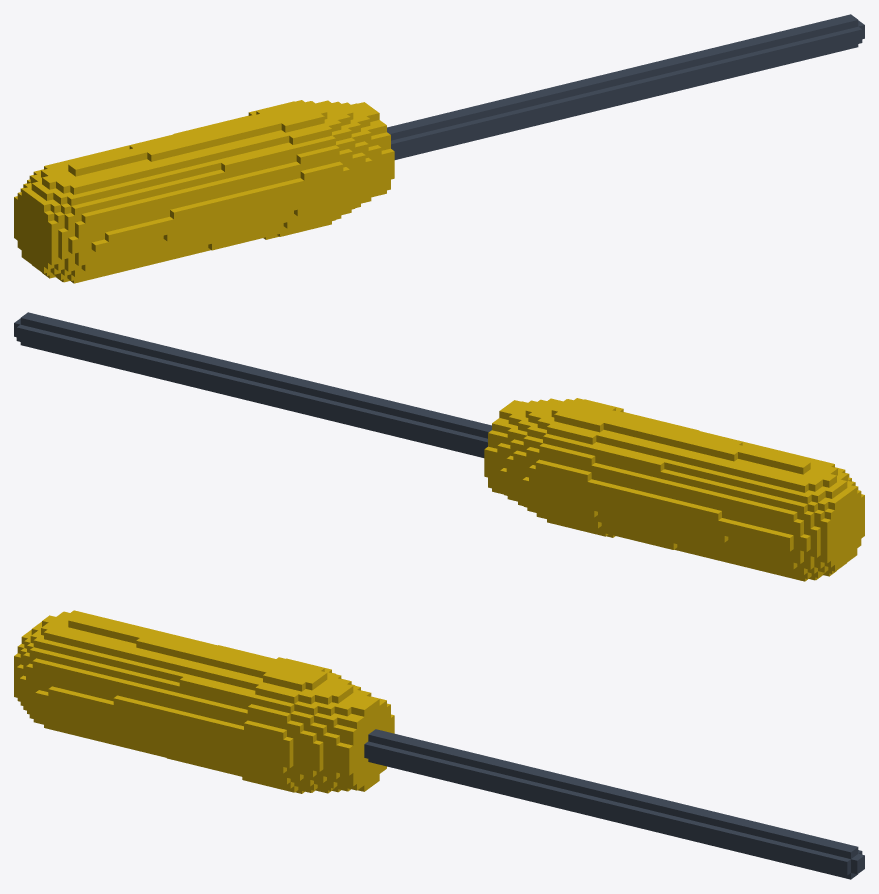
File: screwdriver.glb
3 renders of one model, top to bottom at view 1: azimuth 30°, elevation 25°; view 2: azimuth 150°, elevation 25°; view 3: azimuth 330°, elevation 25°, orthographic.
Parts seen in each view (by area): view 1: screwdriver:compound; view 2: screwdriver:compound; view 3: screwdriver:compound.
Part boxes in pixels (x1,y1,x2,y2): screwdriver:compound: (14, 14, 864, 283); screwdriver:compound: (14, 312, 864, 581); screwdriver:compound: (14, 610, 864, 879).
Bounding box in the file's own units: 0.254 × 0.032 × 0.032.
